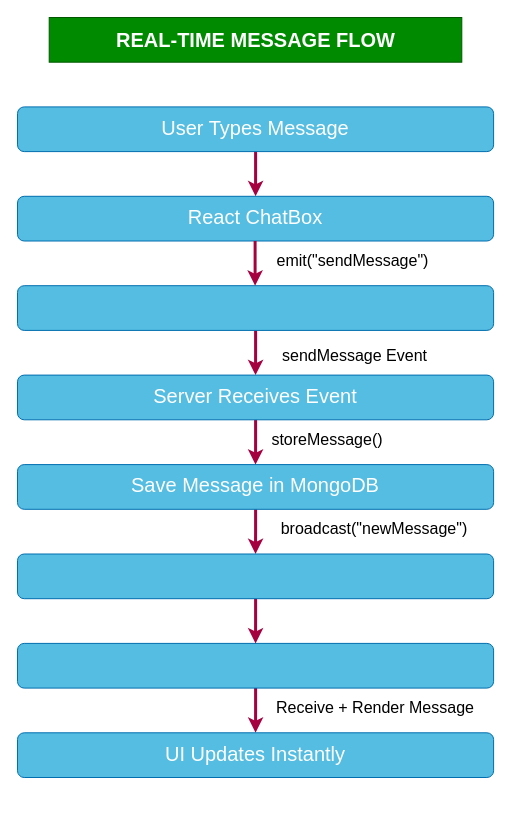
The diagram is 523 pixels wide and 831 high, and some of its shapes have lost their labels. Each missing label, with the box of its shape:
Broadcast to Connected Users: (16, 553, 494, 599)
Other Users Receive Message: (16, 642, 494, 688)
Socket.IO Emit Event: (16, 285, 494, 330)
